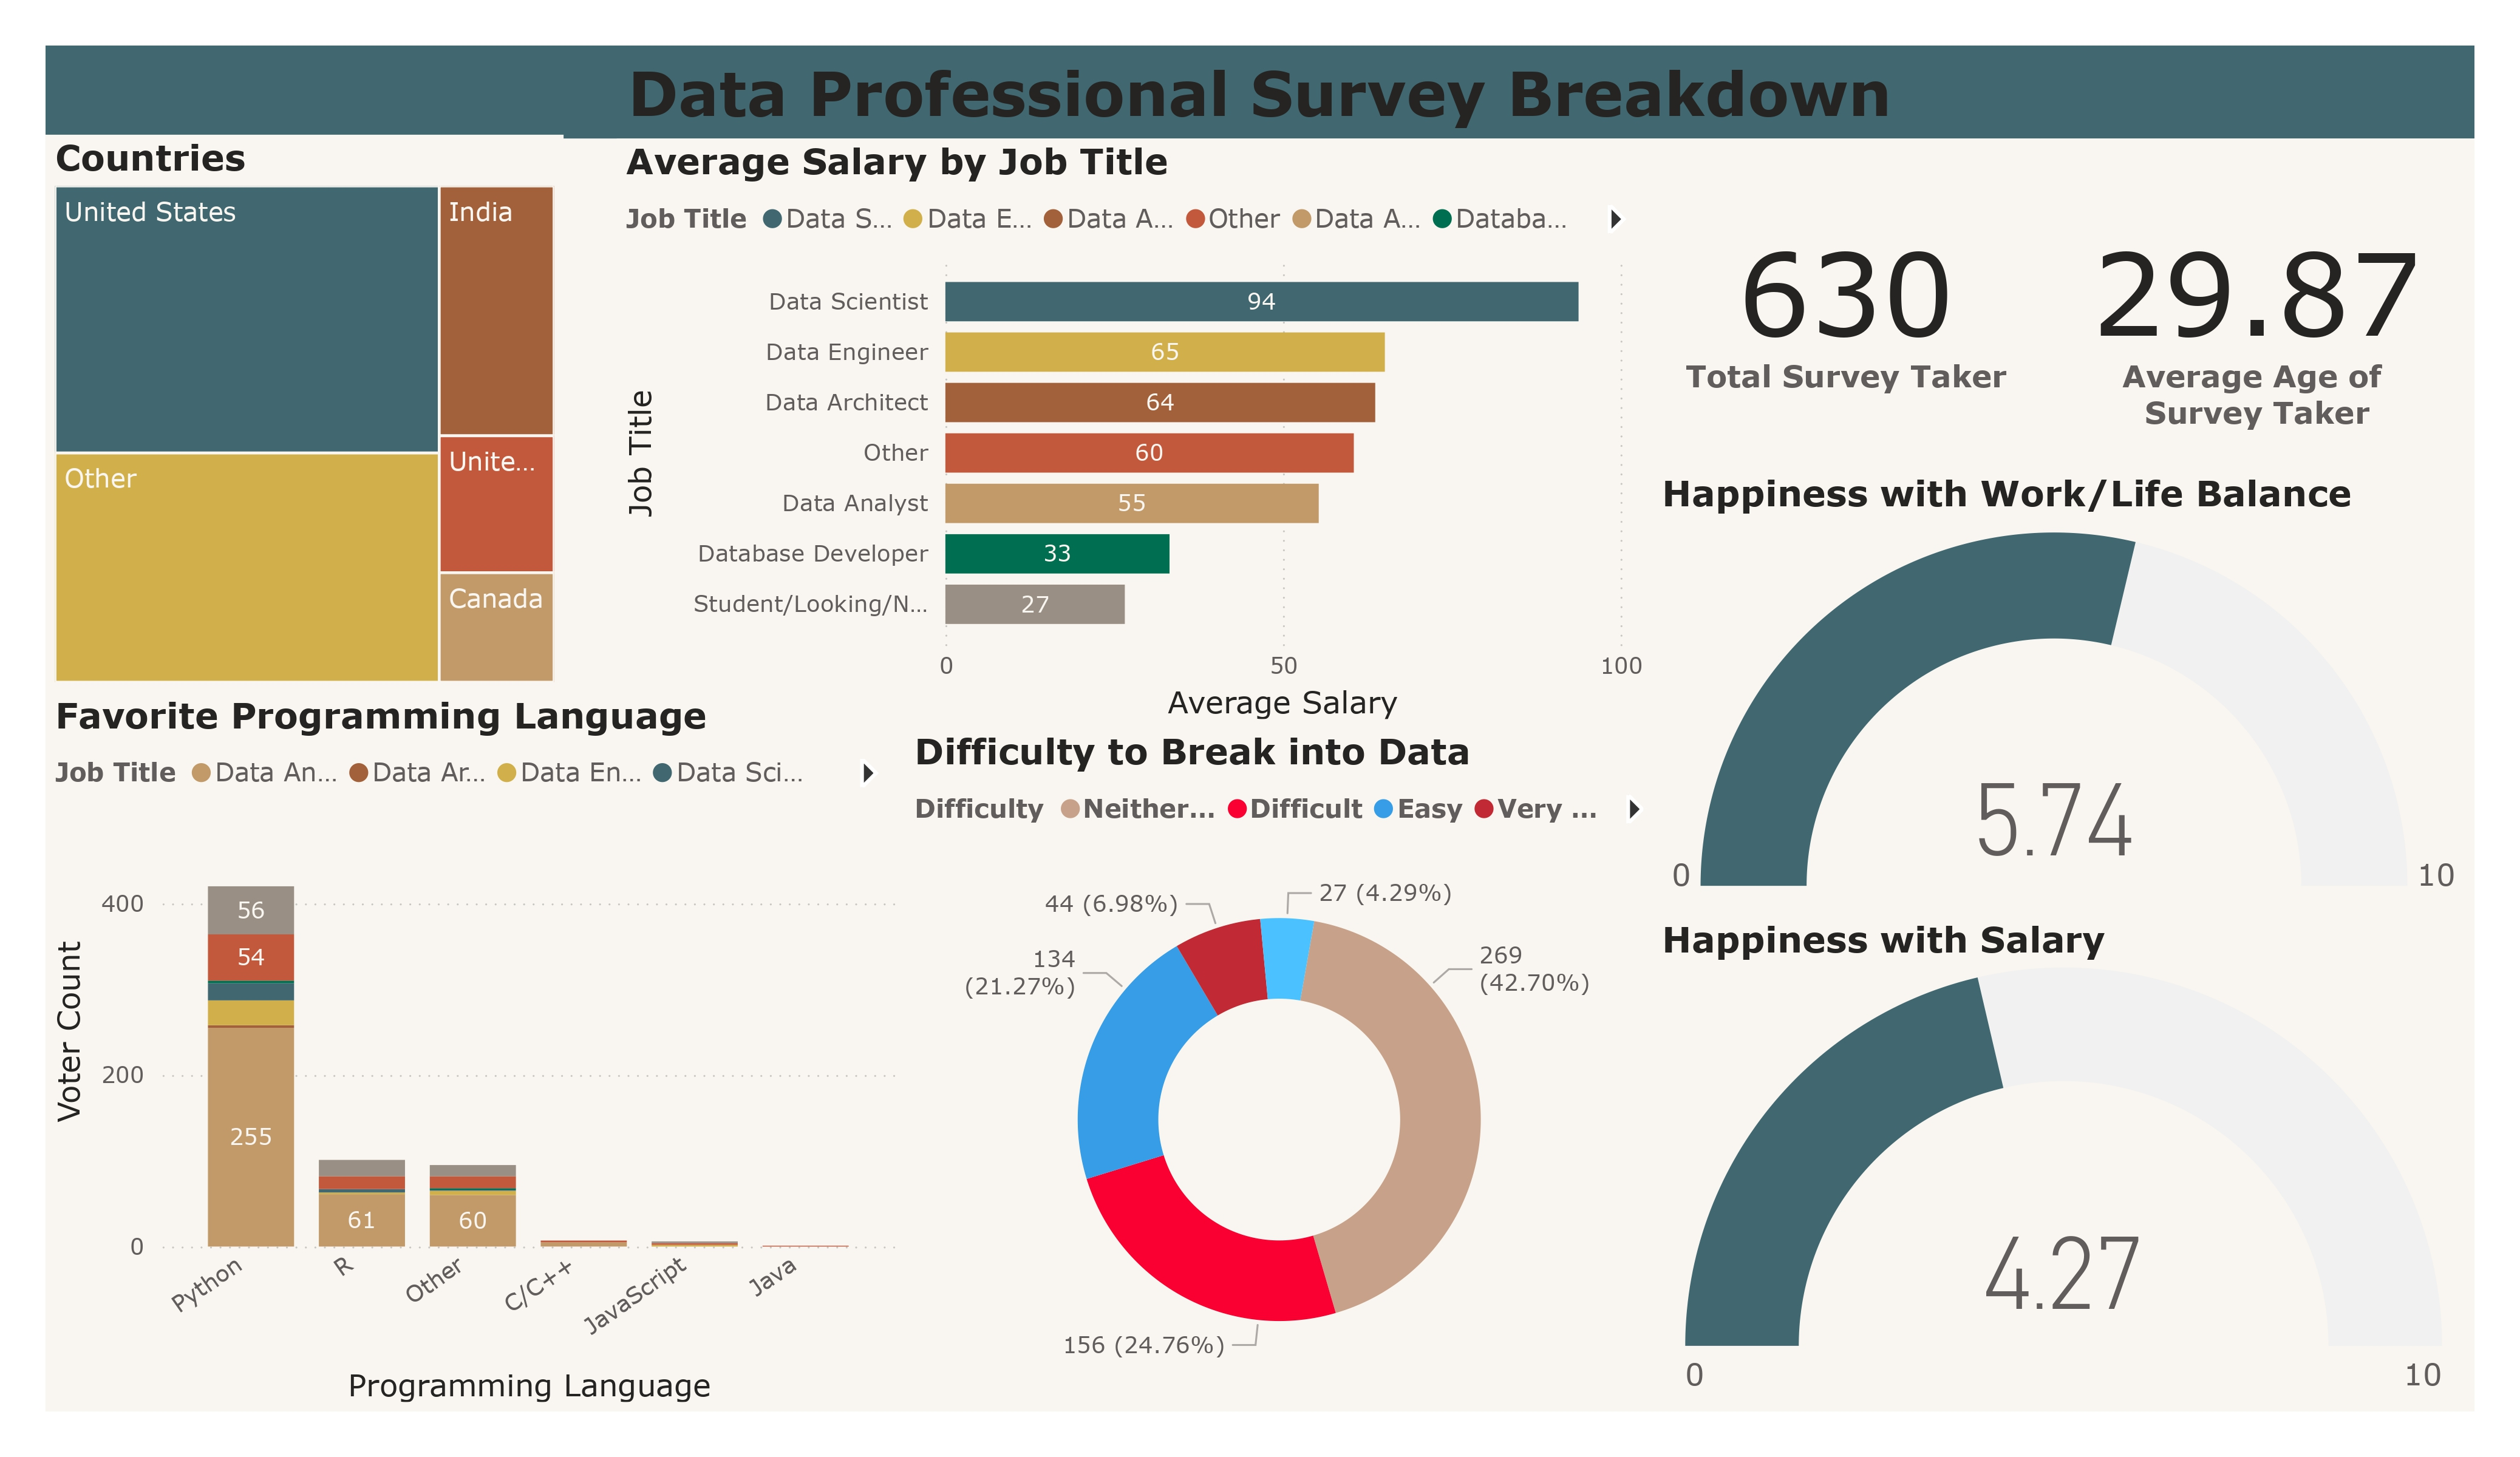

This screenshot's page, from the dashboard's own definition file:
{"tool":"powerbi","page":{"name":"Page 1","canvas":[1280,720],"ordinal":0},"visuals":[{"type":"textbox","box":[0,0,1280,48.6],"z":0},{"type":"card","fields":{"Values":["Count(Data Professional Survey.Unique ID)"]},"box":[847.1,48.6,204.3,175.7],"z":1000},{"type":"card","fields":{"Values":["Avg(Data Professional Survey.Q10 - Current Age)"]},"box":[1051.4,48.6,228.6,175.7],"z":2000},{"type":"barChart","title":"Average Salary by Job Title","fields":{"Category":["Data Professional Survey.Q1 - Which Title Best Fits your Current Role?.1"],"Y":["Avg(Data Professional Survey.Average Salary)"],"Series":["Data Professional Survey.Q1 - Which Title Best Fits your Current Role?.1"]},"box":[301.4,48.6,545.7,311.4],"z":3000},{"type":"columnChart","title":"Favorite Programming Language","fields":{"Category":["Data Professional Survey.Q5 - Favorite Programming Language.1"],"Y":["CountNonNull(Data Professional Survey.Unique ID)"],"Series":["Data Professional Survey.Q1 - Which Title Best Fits your Current Role?.1"]},"box":[0,341.4,452.9,378.6],"z":4000},{"type":"treemap","title":"Countries","fields":{"Group":["Data Professional Survey.Q11 - Which Country do you live in?.1"],"Values":["CountNonNull(Data Professional Survey.Q11 - Which Country do you live in?.1)"]},"box":[0,47.1,272.9,294.3],"z":5000},{"type":"gauge","title":"Happiness with Salary","fields":{"Y":["Avg(Data Professional Survey.Q6 - How Happy are you in your Current Position with the following? (Salary))"],"MinValue":["Min(Data Professional Survey.Q6 - How Happy are you in your Current Position with the following? (Salary))"],"MaxValue":["Max(Data Professional Survey.Q6 - How Happy are you in your Current Position with the following? (Salary))"]},"box":[847.1,458.6,432.9,261.4],"z":6000},{"type":"gauge","title":"Happiness with Work/Life Balance","fields":{"Y":["Avg(Data Professional Survey.Q6 - How Happy are you in your Current Position with the following? (Work/Life Balance))"],"MinValue":["Min(Data Professional Survey.Q6 - How Happy are you in your Current Position with the following? (Work/Life Balance))"],"MaxValue":["Max(Data Professional Survey.Q6 - How Happy are you in your Current Position with the following? (Work/Life Balance))"]},"box":[847.1,224.3,432.9,234.3],"z":7000},{"type":"donutChart","title":"Difficulty to Break into Data","fields":{"Category":["Data Professional Survey.Q7 - How difficult was it for you to break into Data?"],"Y":["CountNonNull(Data Professional Survey.Q7 - How difficult was it for you to break into Data?)"]},"box":[452.9,360,394.3,360],"z":8000}]}

Visuals, with their boxes in screenshot pixels (x1, y1, x2, y2):
textbox: (x1=46, y1=46, x2=2474, y2=138)
card - Count(Data Professional Survey.Unique ID): (x1=1653, y1=138, x2=2041, y2=471)
card - Avg(Data Professional Survey.Q10 - Current Age): (x1=2041, y1=138, x2=2474, y2=471)
"Average Salary by Job Title" barChart: (x1=618, y1=138, x2=1653, y2=728)
"Favorite Programming Language" columnChart: (x1=46, y1=693, x2=905, y2=1411)
"Countries" treemap: (x1=46, y1=135, x2=564, y2=693)
"Happiness with Salary" gauge: (x1=1653, y1=915, x2=2474, y2=1411)
"Happiness with Work/Life Balance" gauge: (x1=1653, y1=471, x2=2474, y2=915)
"Difficulty to Break into Data" donutChart: (x1=905, y1=728, x2=1653, y2=1411)
